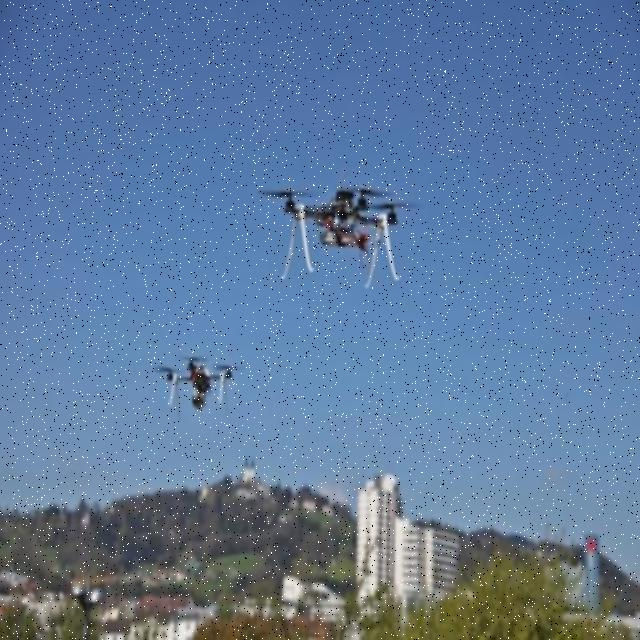UAV: (278, 179, 404, 285), (160, 360, 236, 420)
